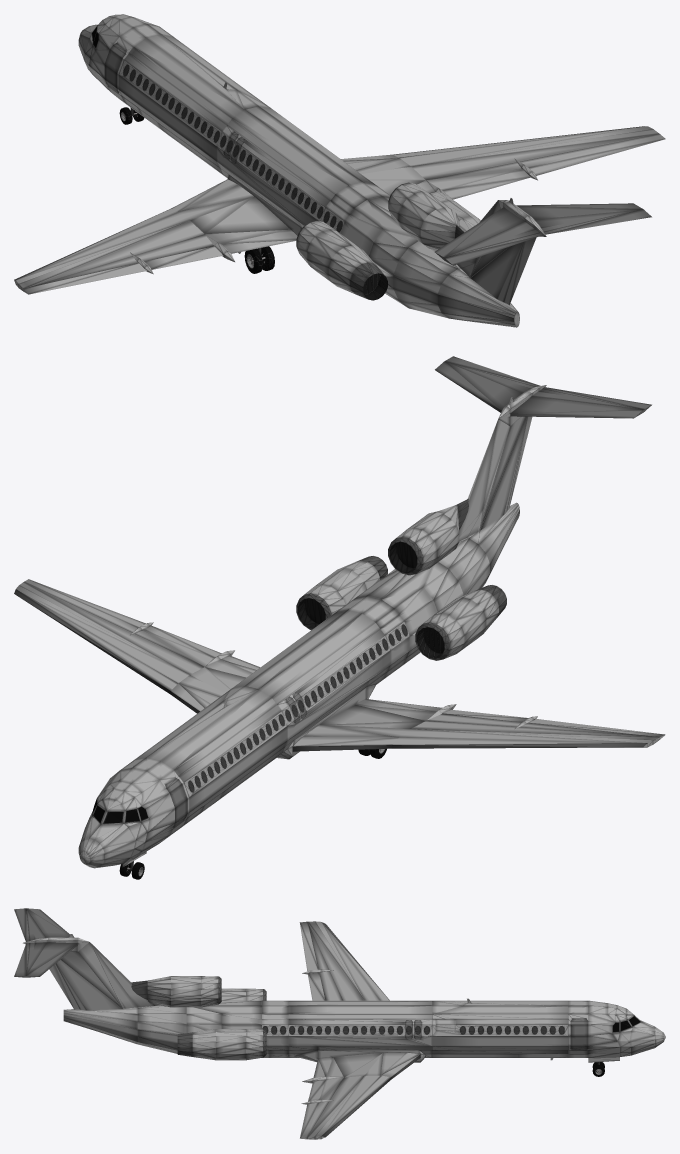
3 renders of one model, top to bottom at view 1: azimuth 30°, elevation 25°; view 2: azimuth 150°, elevation 25°; view 3: azimuth 270°, elevation 25°, orthographic. The views are drawn at different scales.
Parts seen in each view (by area): view 1: world; view 2: world; view 3: world.
Boxes of the visible parts, x1,y1,x2,y2 form: world: (14, 14, 665, 327); world: (14, 356, 665, 879); world: (14, 908, 665, 1139).
Size of the model in its own units: 1.49 by 0.4525 by 1.9.
1 material, 1 textured.
